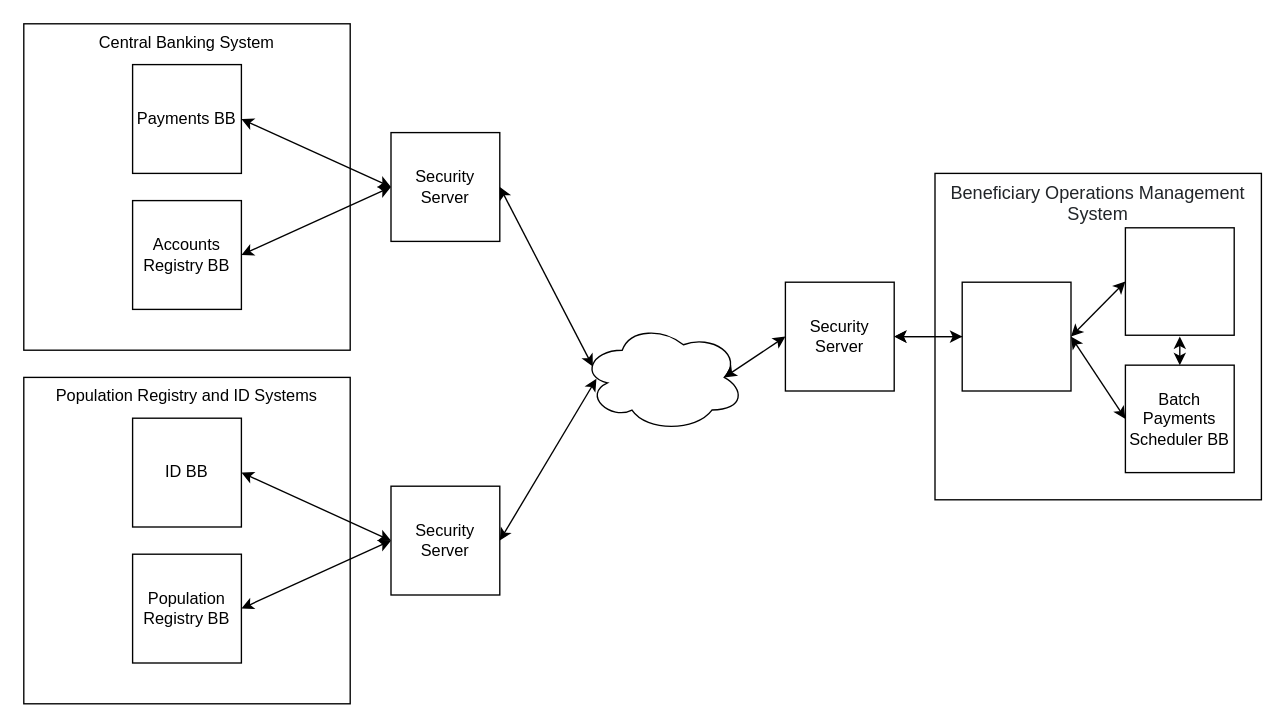
The diagram is 1285 pixels wide and 728 high, and some of its shapes have lost their labels. The centre of each missing label's shape, as x and y in pixels:
"Beneficiary Registry BB" belongs at pixel 1179 280.
"Information Mediation BB" belongs at pixel 1016 336.
